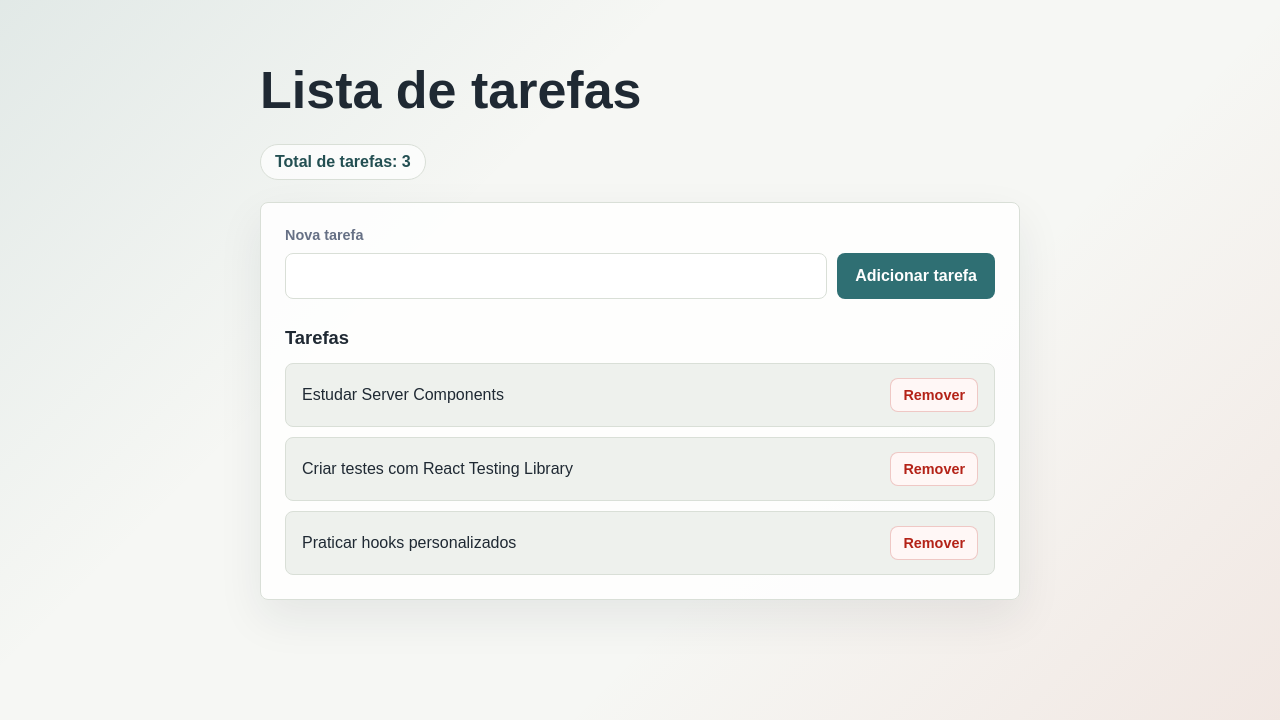
Home › adiciona uma nova tarefa pela pagina principal
The image size is (1280, 720).
Type "Publicar no GitHub" into the field labelled "Nova tarefa" at (556, 276), box 285,253 -> 827,299
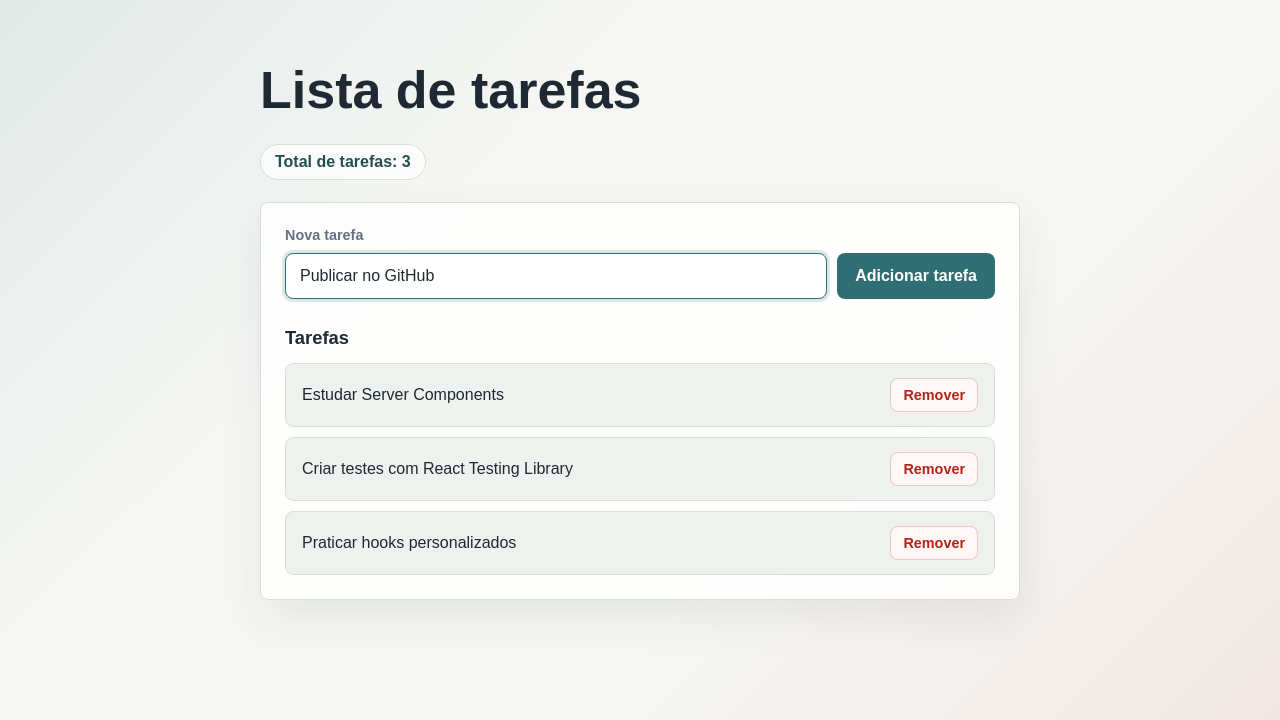
Click the button "Adicionar tarefa" at (916, 276), box 837,253 -> 995,299
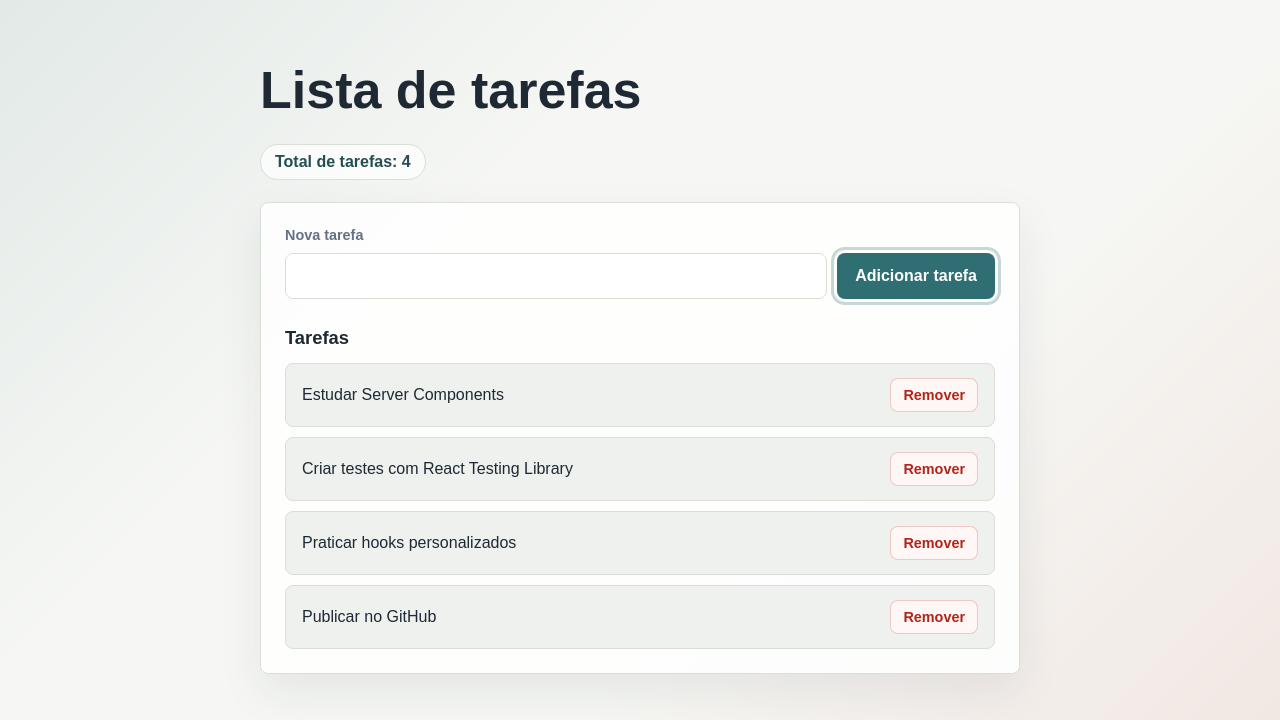
Now the text "Publicar no GitHub" is shown, box 302,608 -> 436,626
Now the text labelled "Total de tarefas: 4" is shown, box 260,144 -> 426,180
